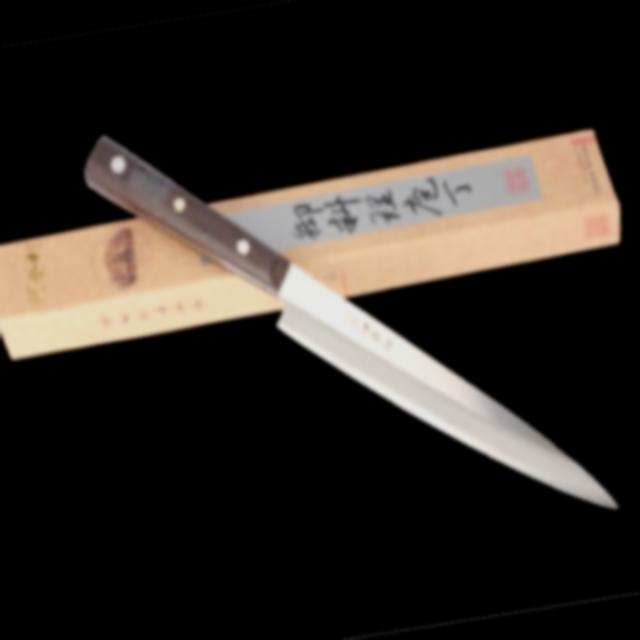knife: (67, 49, 638, 612)
